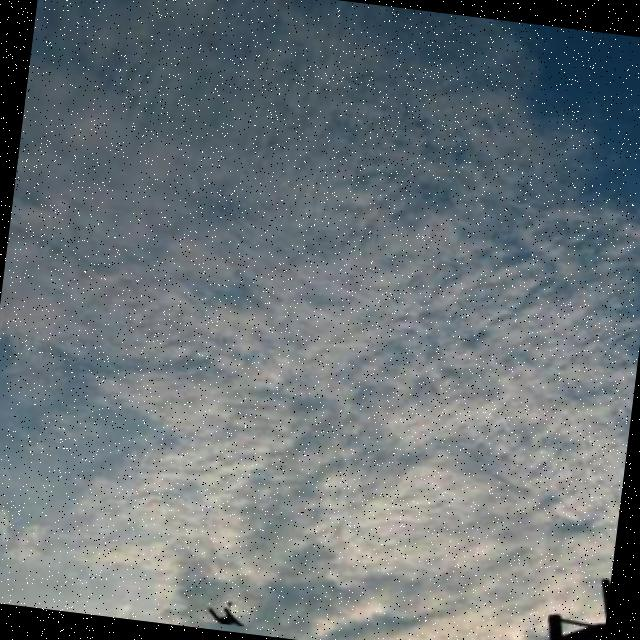Cc: (1, 22, 640, 531)
